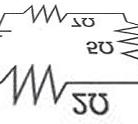resistor: (2, 59, 69, 115), (111, 16, 137, 63), (23, 2, 71, 26)
